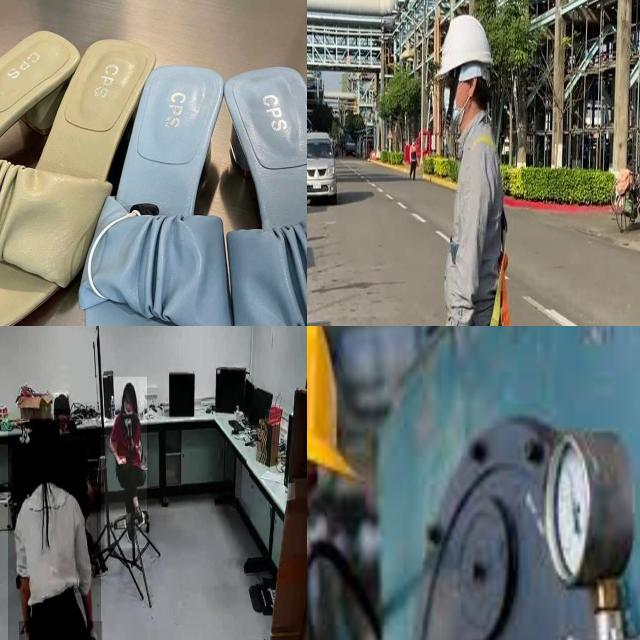Harness: (489, 255, 511, 326)
Sandals: (81, 44, 307, 326), (0, 0, 159, 326)
hand_glove: (81, 621, 102, 640), (19, 621, 34, 640)
hand_noglove: (118, 456, 126, 464)
head_nohelmet: (30, 418, 60, 452), (53, 392, 70, 410), (123, 380, 137, 396)
person: (8, 420, 101, 640), (104, 377, 148, 549)
shoes: (122, 511, 136, 546), (133, 502, 147, 529)
